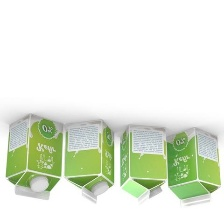carton: (6, 113, 63, 205), (63, 116, 118, 206), (166, 126, 222, 208), (118, 123, 168, 206)
